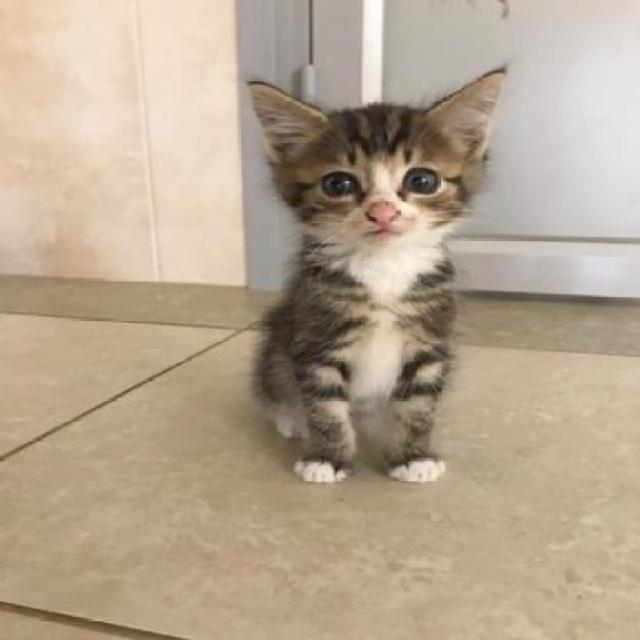cat: (166, 52, 534, 530)
